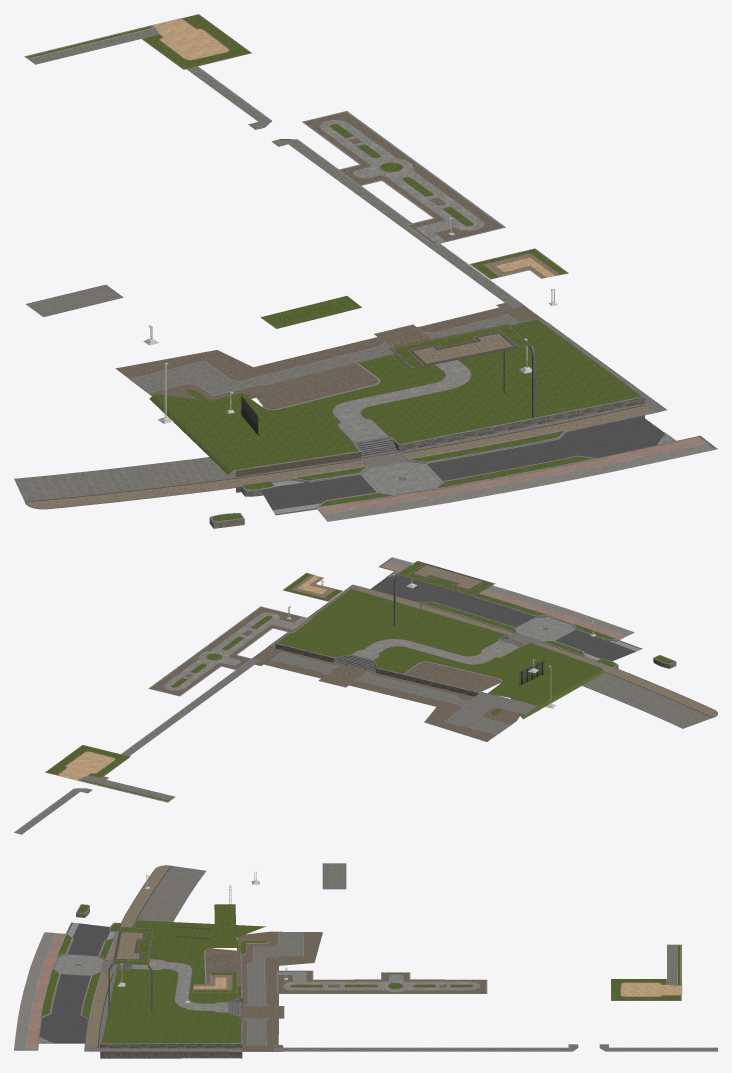
The picture shows the model from 3 angles, top to bottom: view 1: azimuth 30°, elevation 25°; view 2: azimuth 150°, elevation 25°; view 3: azimuth 270°, elevation 25°; orthographic projection. The views are drawn at different scales.
Parts seen in each view (by area): view 1: um_t1_g03_1_model_t1_g03_1_modelShape; view 2: um_t1_g03_1_model_t1_g03_1_modelShape; view 3: um_t1_g03_1_model_t1_g03_1_modelShape.
Boxes of the visible parts, x1,y1,x2,y2 form: um_t1_g03_1_model_t1_g03_1_modelShape: (14,14,717,528); um_t1_g03_1_model_t1_g03_1_modelShape: (14,557,717,834); um_t1_g03_1_model_t1_g03_1_modelShape: (14,863,717,1058).
Bounding box in the file's own units: 130 × 24.01 × 208.
23 materials, 23 textured.
